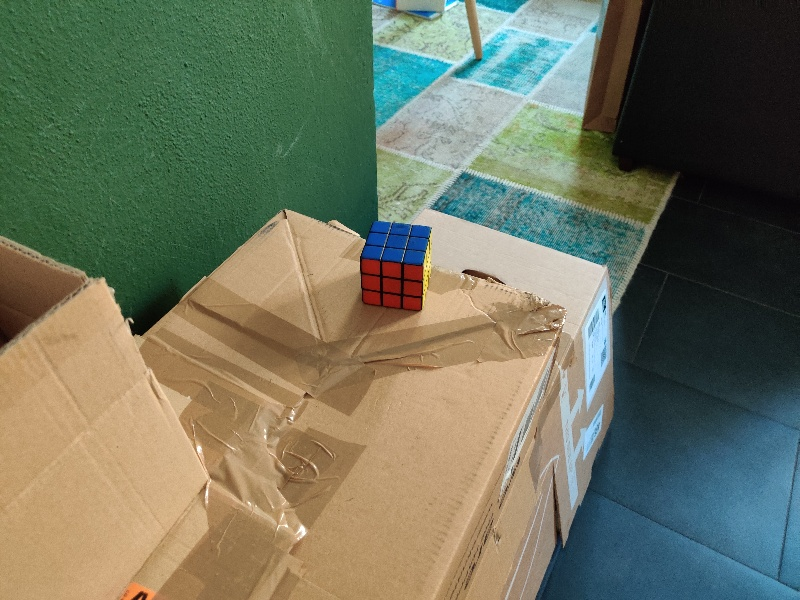rubik: (359, 221, 434, 315)
